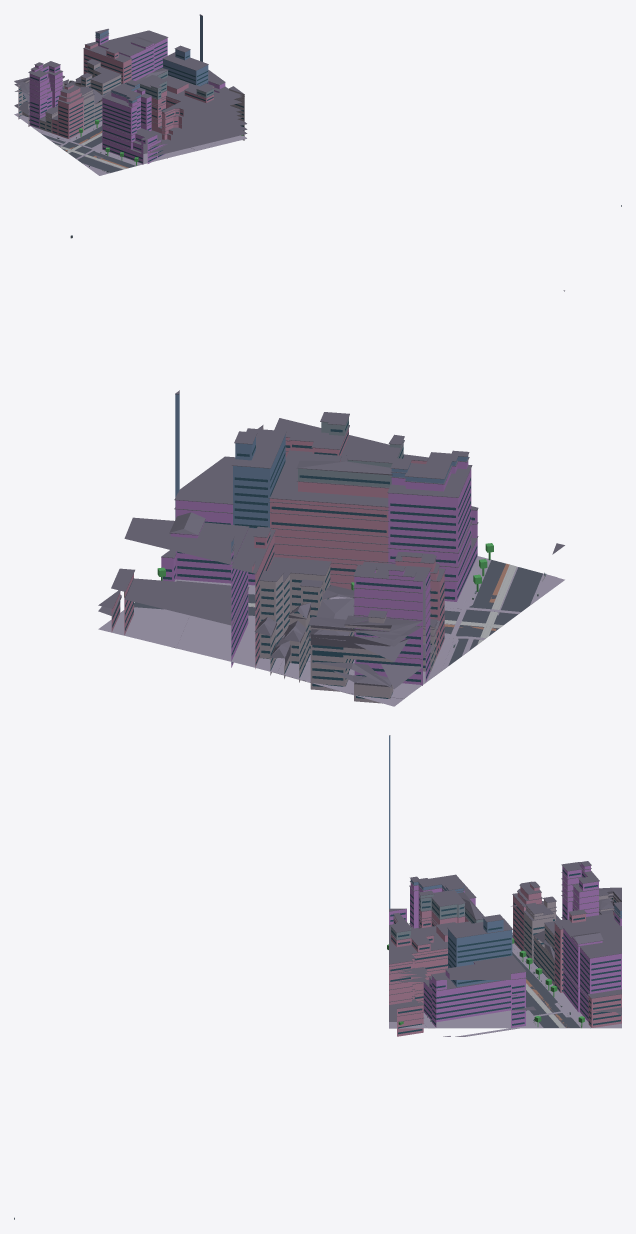
3 renders of one model, top to bottom at view 1: azimuth 30°, elevation 25°; view 2: azimuth 150°, elevation 25°; view 3: azimuth 270°, elevation 25°, orthographic. The views are drawn at different scales.
Parts seen in each view (by area): view 1: compiled-chunk; view 2: compiled-chunk; view 3: compiled-chunk.
Boxes of the visible parts, bbox=[...] form: compiled-chunk: bbox=[14, 14, 621, 206]; compiled-chunk: bbox=[70, 235, 564, 706]; compiled-chunk: bbox=[14, 735, 621, 1219].
Bounding box in the file's own units: 312 × 130 × 313.
